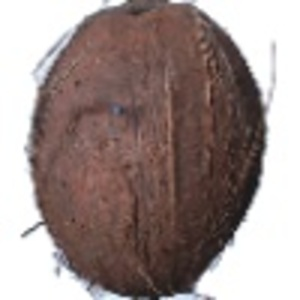coco: (26, 1, 270, 300)
